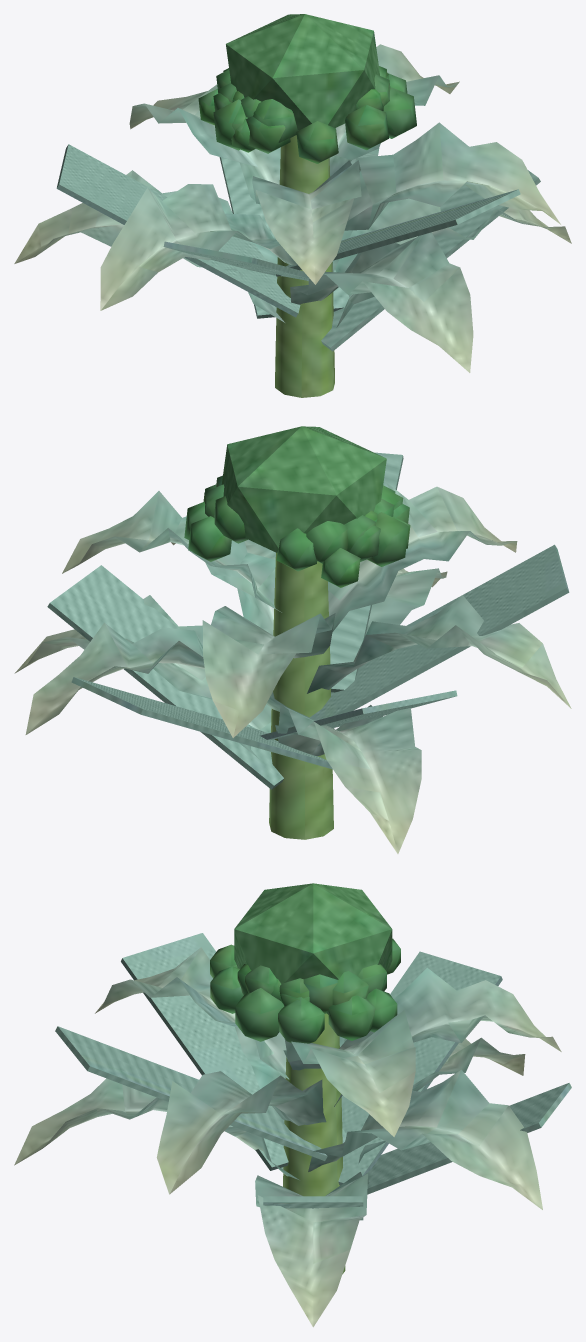
The model's file is brocoli.glb.
3 renders of one model, top to bottom at view 1: azimuth 30°, elevation 25°; view 2: azimuth 150°, elevation 25°; view 3: azimuth 270°, elevation 25°, orthographic. The views are drawn at different scales.
Parts seen in each view (by area): view 1: brocoli, brocoli_lp; view 2: brocoli, brocoli_lp; view 3: brocoli, brocoli_lp.
Boxes of the visible parts, x1,y1,x2,y2 form: brocoli: (14, 44, 571, 397); brocoli_lp: (56, 14, 540, 351); brocoli: (14, 475, 571, 853); brocoli_lp: (47, 426, 569, 789); brocoli: (14, 938, 561, 1327); brocoli_lp: (55, 883, 571, 1220).
Size of the model in its own units: 0.834 by 0.5975 by 0.7801.
Materials: 2 (2 with a texture image).
